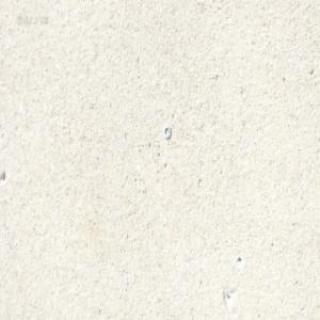Washertrack_idkeyframe: (162, 123, 170, 138)
